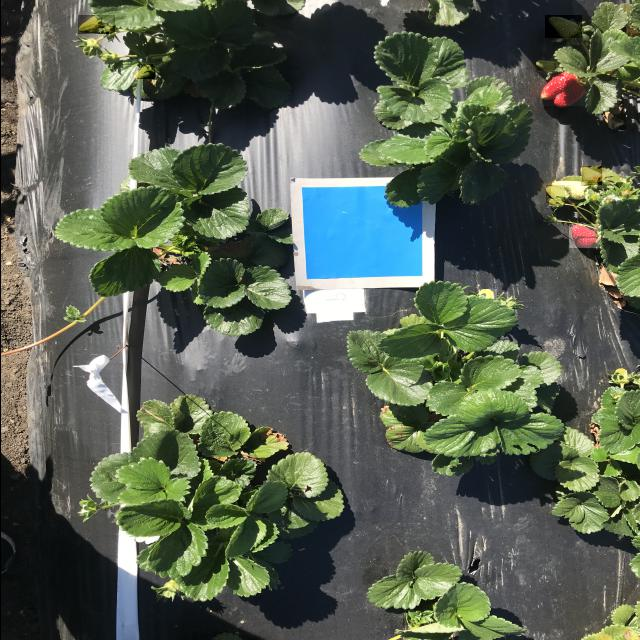Green Strawberry: (542, 15, 580, 39), (76, 15, 114, 35), (550, 181, 587, 200), (580, 166, 601, 186), (533, 59, 559, 74), (544, 185, 564, 204), (136, 64, 154, 80), (477, 289, 496, 300)
Red Strawberry: (538, 70, 590, 107), (567, 224, 600, 249)
